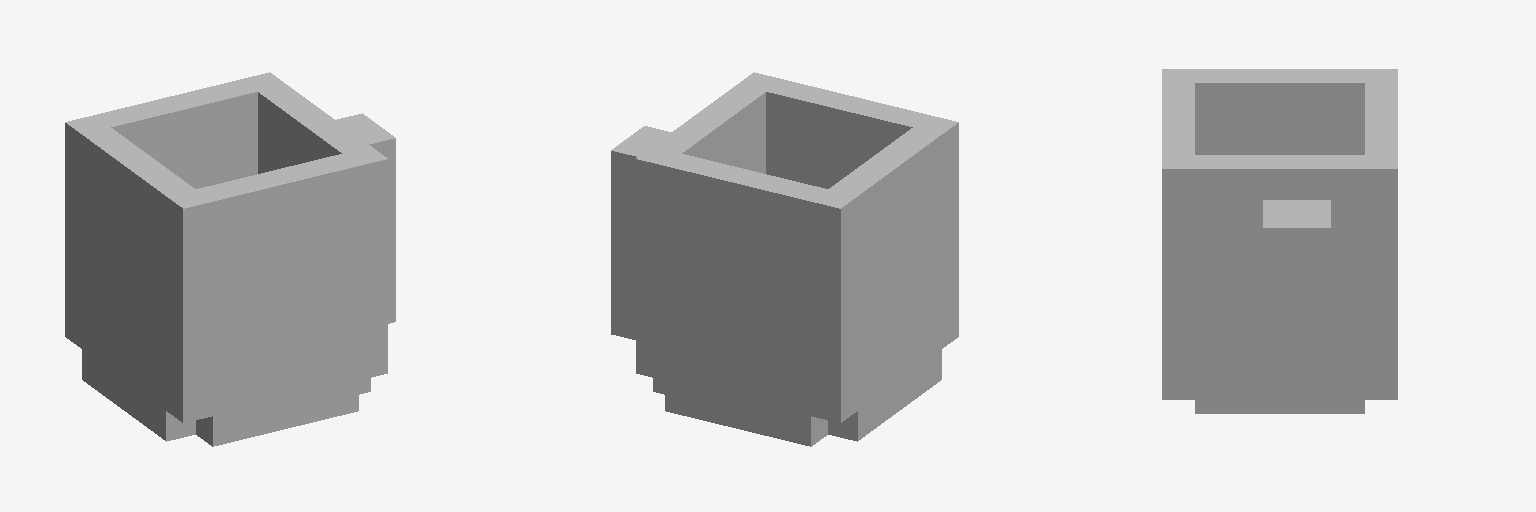
File: KitchenOPEN_Export-14.obj
The picture shows the model from 3 angles: view 1: azimuth 30°, elevation 25°; view 2: azimuth 150°, elevation 25°; view 3: azimuth 270°, elevation 25°; orthographic projection.
Parts seen in each view (by area): view 1: KitchenOPEN_Export-14; view 2: KitchenOPEN_Export-14; view 3: KitchenOPEN_Export-14.
Part boxes in pixels (x1,y1,x2,y2): KitchenOPEN_Export-14: (65,72,395,446); KitchenOPEN_Export-14: (611,72,958,446); KitchenOPEN_Export-14: (1162,69,1397,413).
Bounding box in the file's own units: 9 × 8 × 7.